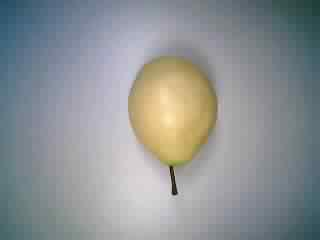pear: (109, 50, 224, 196)
